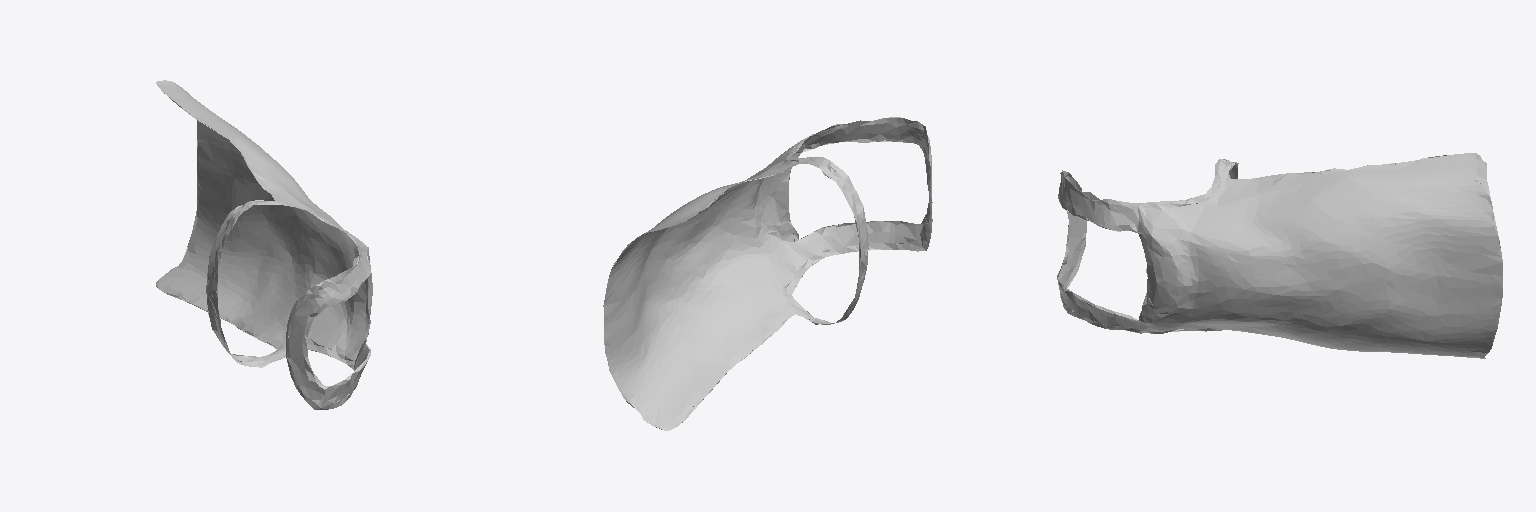
File: ts_apron_twoloops.obj
The picture shows the model from 3 angles: view 1: azimuth 30°, elevation 25°; view 2: azimuth 150°, elevation 25°; view 3: azimuth 270°, elevation 25°; orthographic projection.
Parts seen in each view (by area): view 1: ts_apron_twoloops; view 2: ts_apron_twoloops; view 3: ts_apron_twoloops.
Part boxes in pixels (x1,y1,x2,y2): ts_apron_twoloops: (156,80,372,409); ts_apron_twoloops: (603,117,932,430); ts_apron_twoloops: (1057,153,1502,358).
Bounding box in the file's own units: 0.171 × 0.2337 × 0.4642.